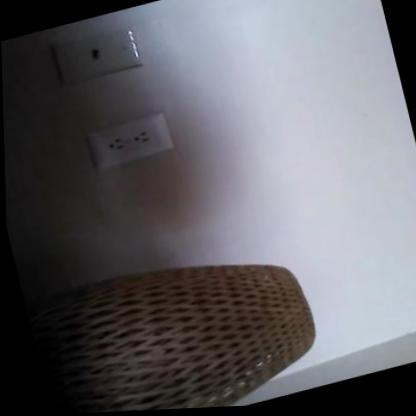OUTLET: (84, 108, 176, 170)
